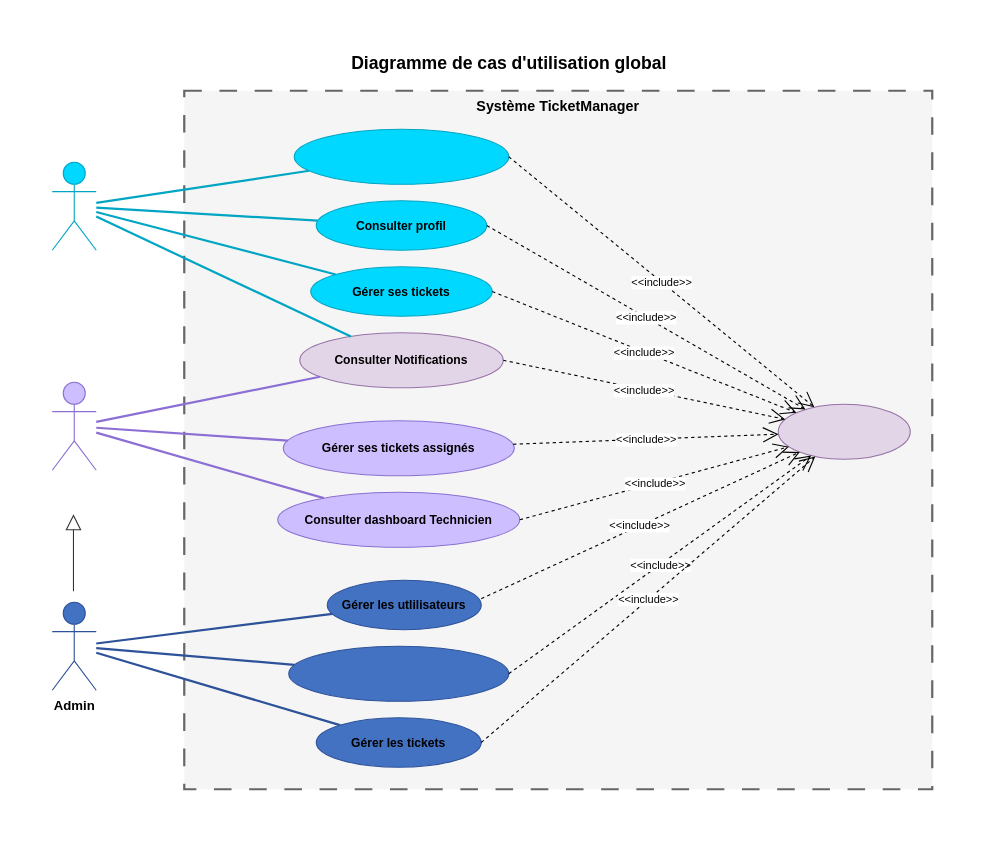
Some shapes in this 1005 by 851 pixel diagram are drawn without their labels. Here are the shapes that lost their labels. From the top down, the box of each, then its label:
(293, 128, 509, 184): Consulter dashboard Client
(51, 161, 96, 250): Client
(51, 381, 96, 470): Technicien
(777, 403, 910, 459): S'authentifier
(288, 645, 509, 701): Consulter dashboard Admin
